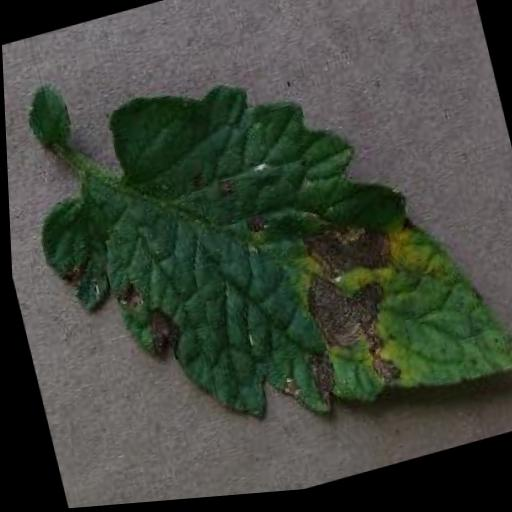Early Blight: (15, 13, 512, 495)
